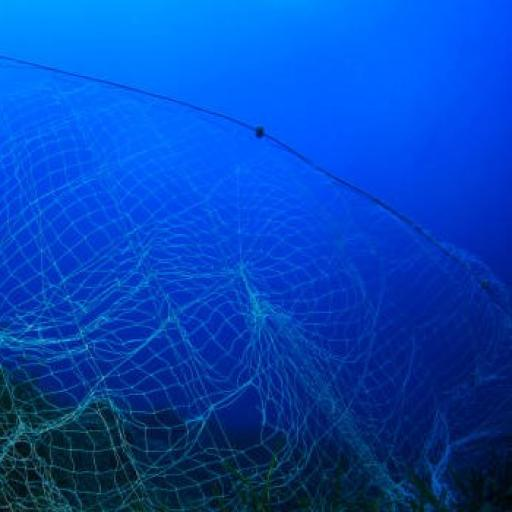net: (4, 52, 512, 512)
